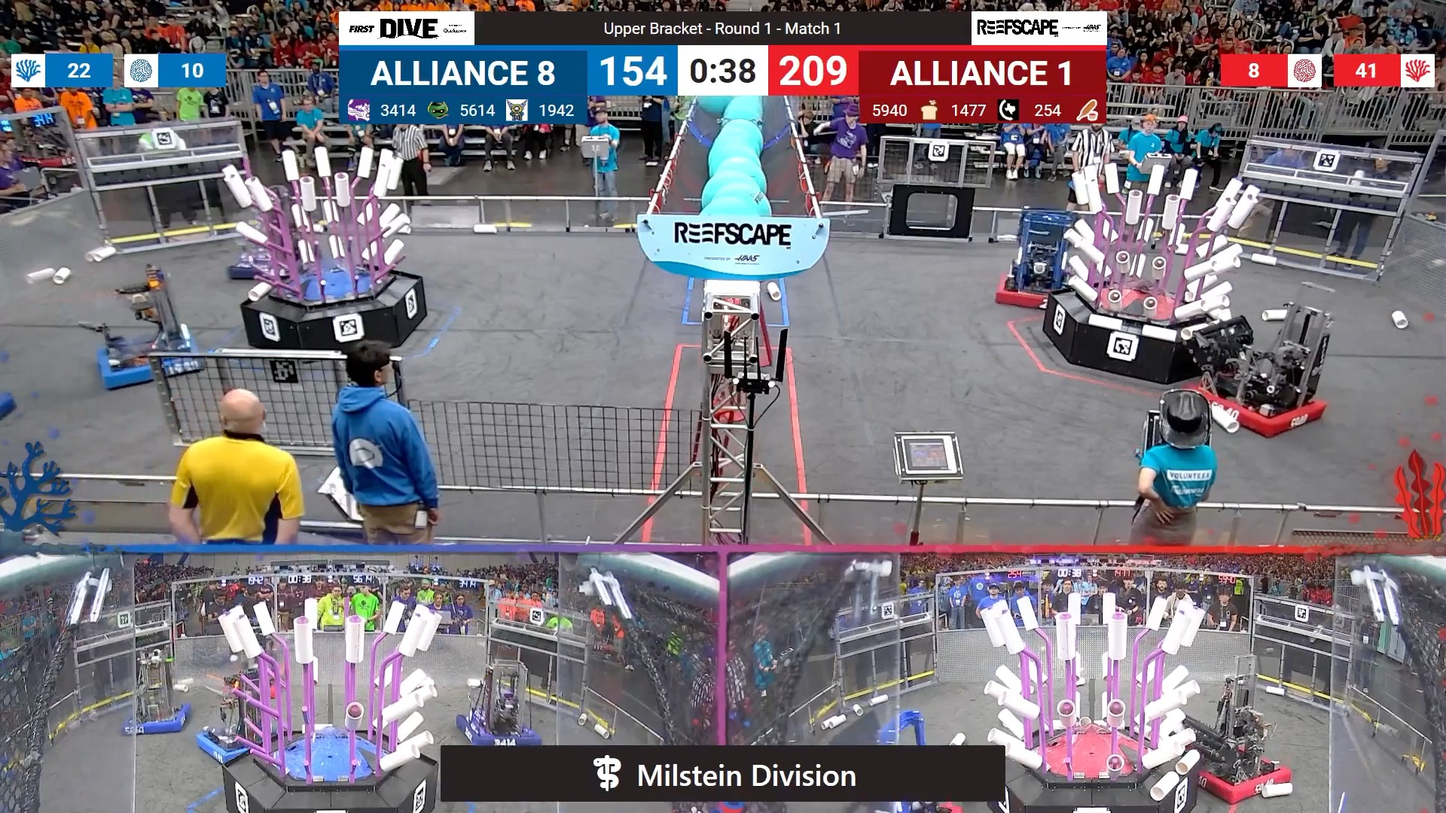bumpers: (1177, 371, 1339, 439), (89, 330, 212, 388), (1179, 750, 1299, 807), (449, 707, 549, 749), (992, 263, 1073, 310), (221, 247, 318, 284), (117, 700, 200, 741), (0, 381, 25, 436)
